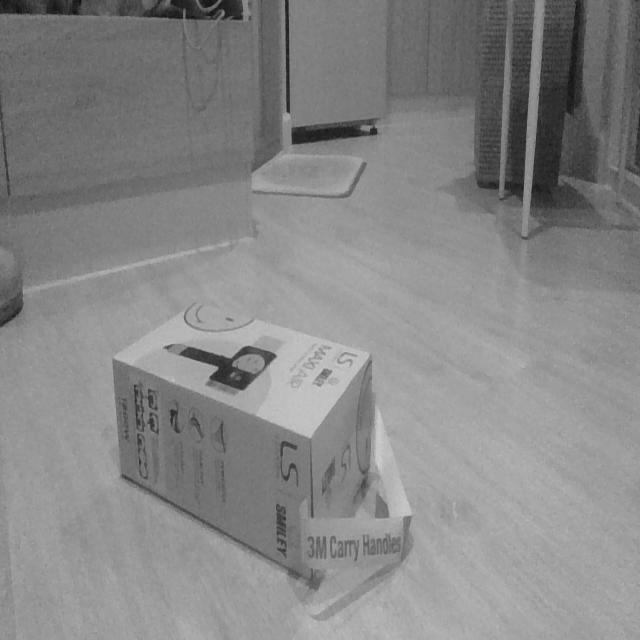Dryer: (110, 294, 412, 586)
